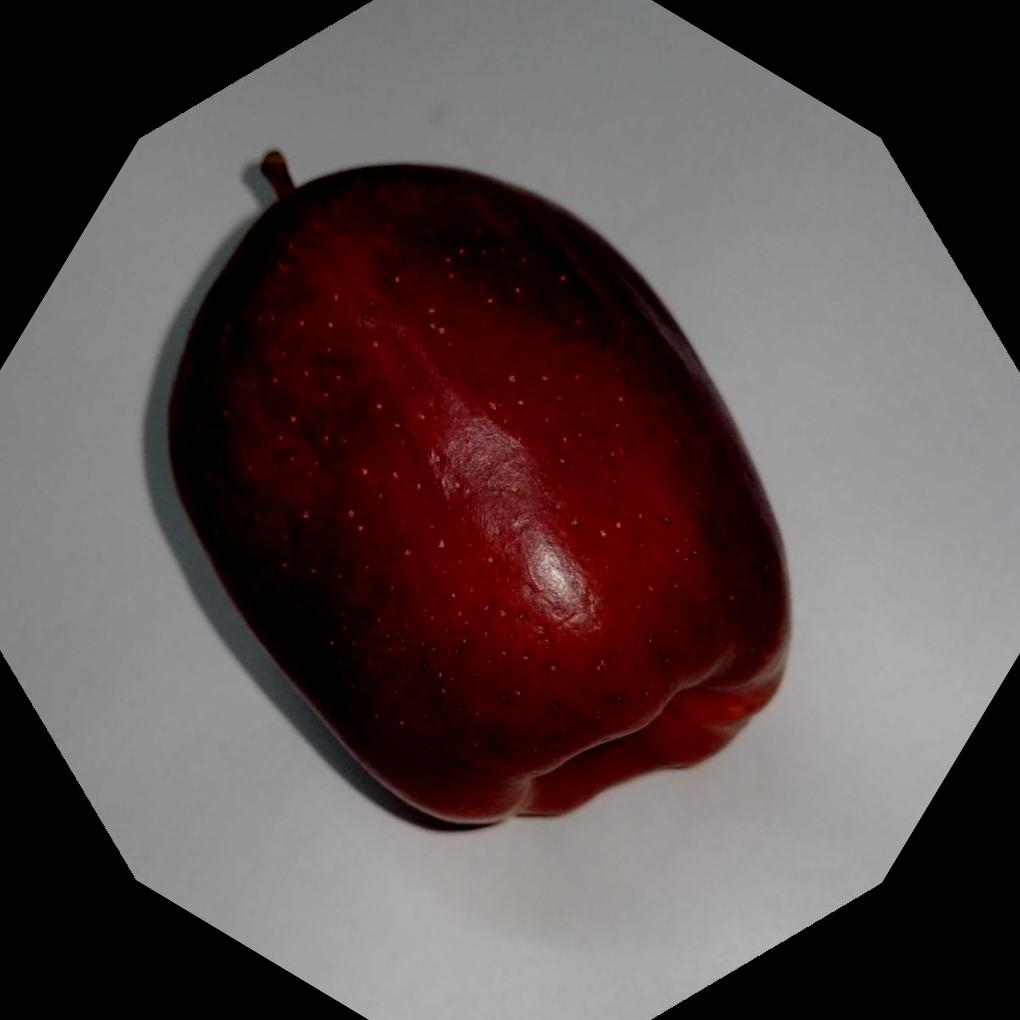FreshOrange: (157, 161, 792, 834)
